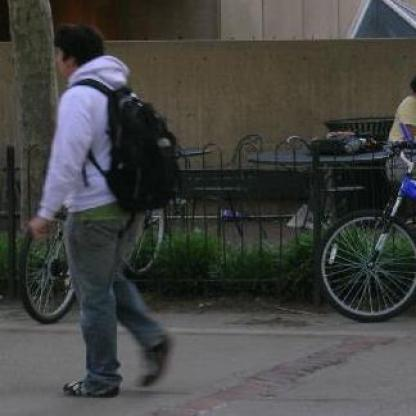person: (27, 24, 183, 396)
